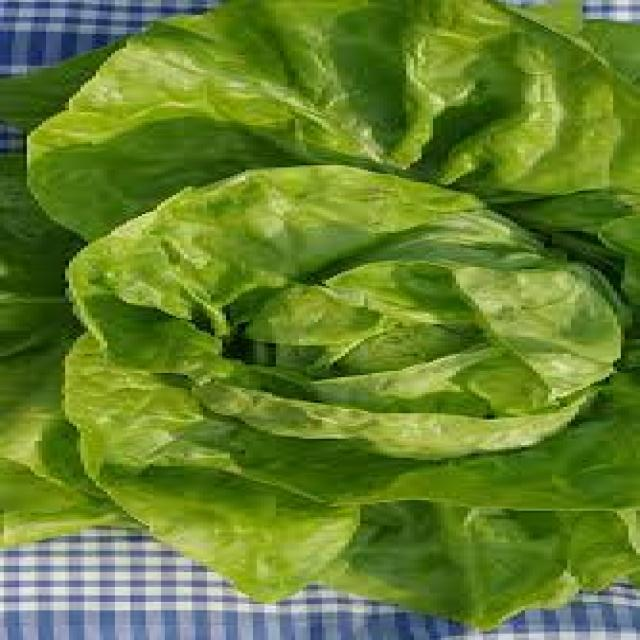organic waste: (0, 0, 636, 523), (58, 157, 636, 462), (307, 502, 636, 636), (81, 449, 364, 604)
